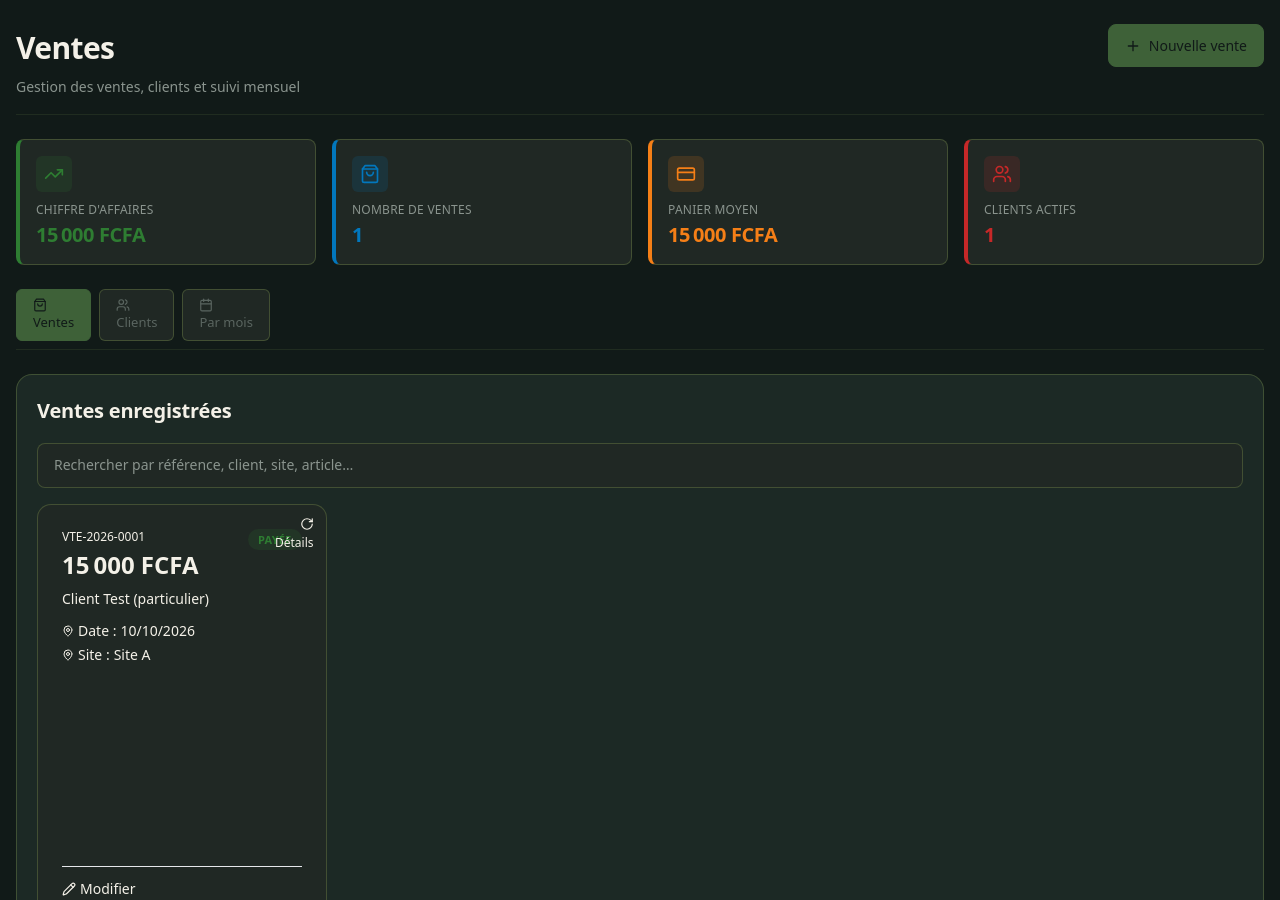
Scenario: SalesModule — régression (Éditer la vente) › le bouton Modifier (face avant) ouvre la modale et pré-remplit la vente + les articles
This screenshot has width=1280, height=900.
Click the button "Modifier": (99,889) left=62, top=879, right=136, bottom=899
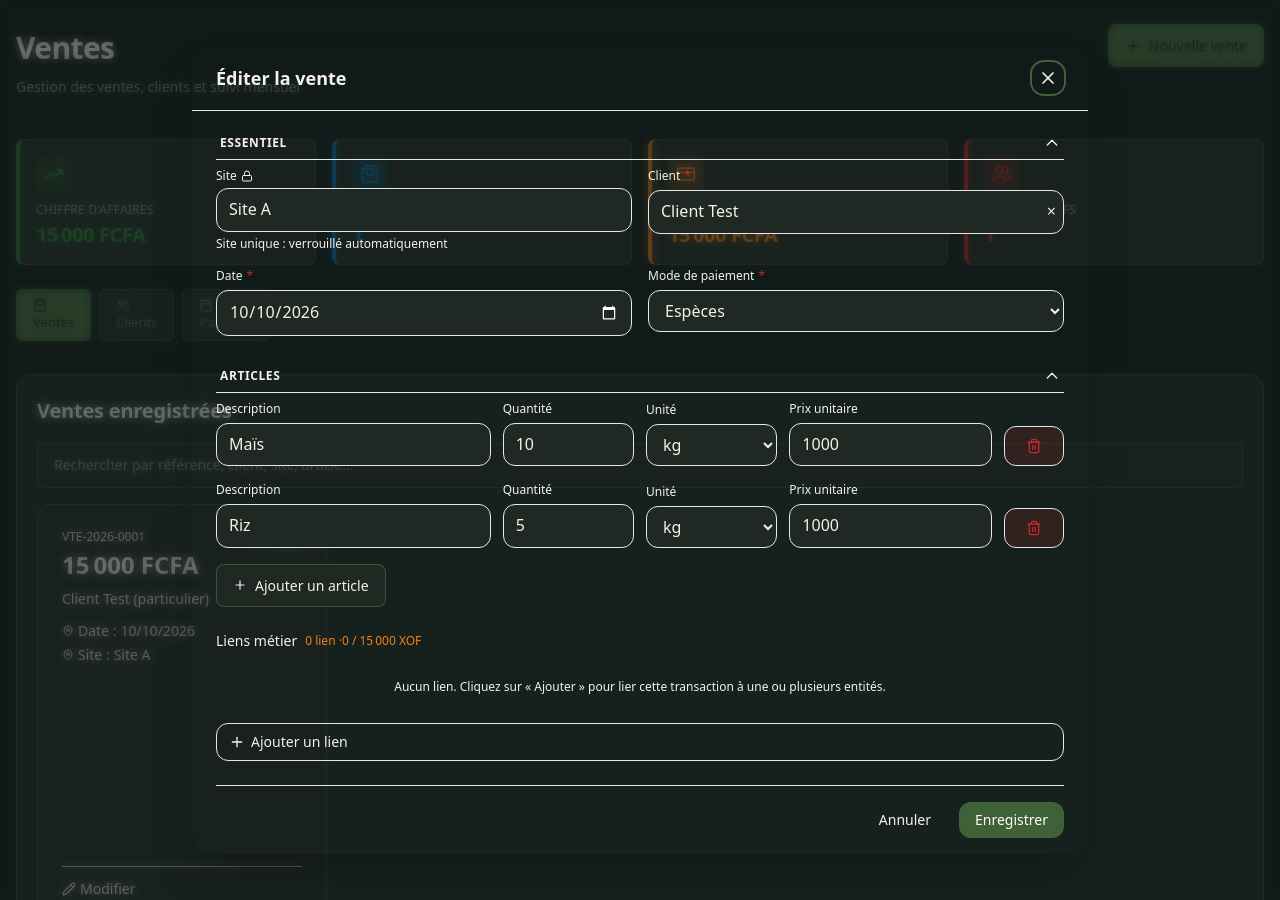
Result: the heading "Éditer la vente" is shown at left=216, top=64, right=346, bottom=92
Result: the field labelled "Site" holds "Site A" at left=216, top=188, right=632, bottom=232
Result: the dropdown labelled "Client *" holds "Client Test" at left=648, top=190, right=1064, bottom=234
